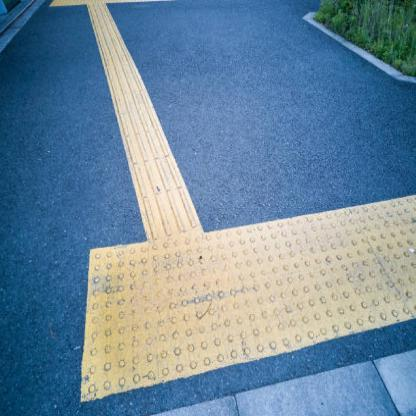podotacti: (82, 6, 415, 401)
